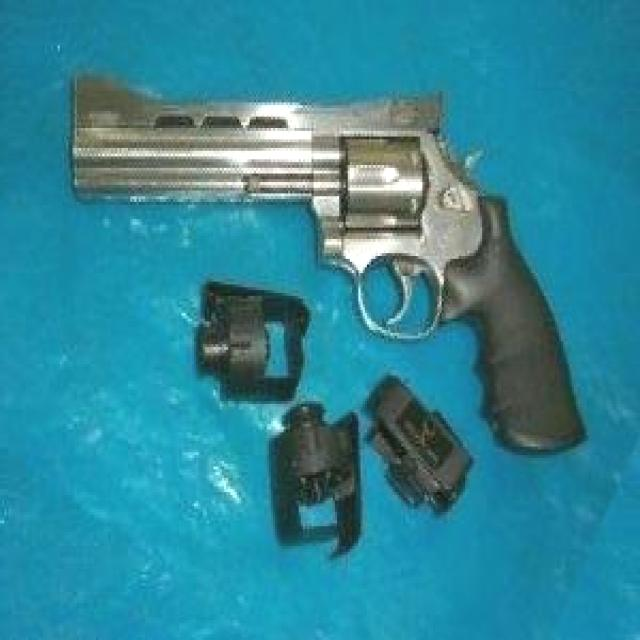pistol: (68, 65, 602, 458)
